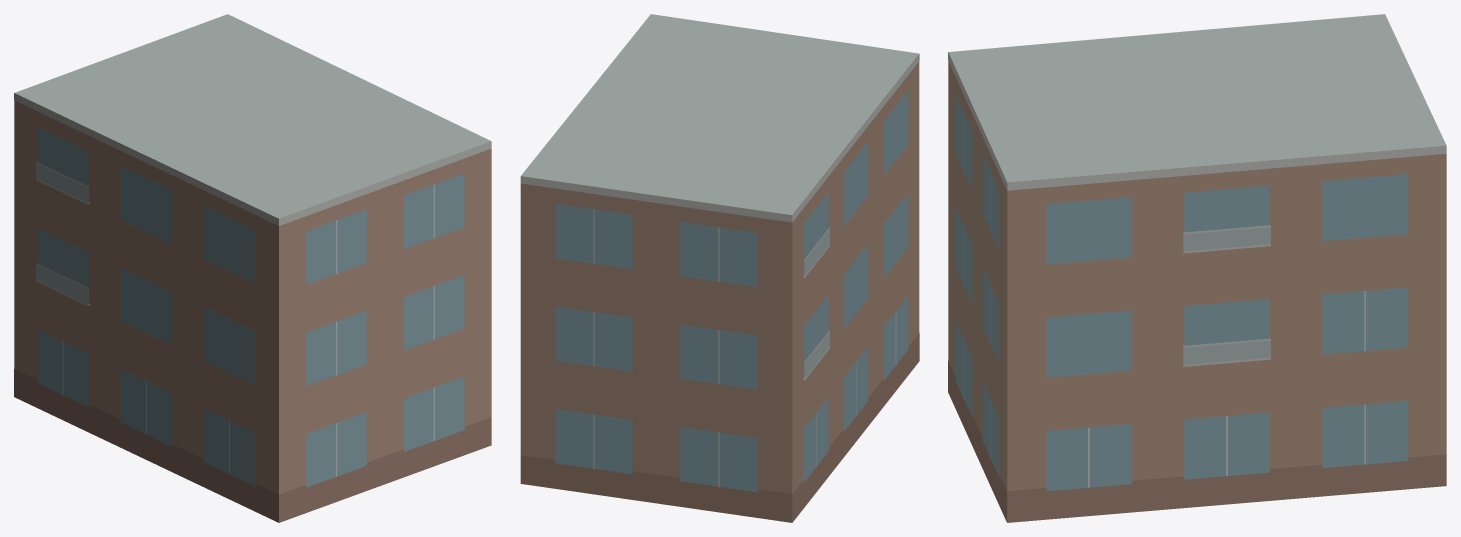
File: survey-upis-32920373.glb
3 renders of one model, left to right at view 1: azimuth 30°, elevation 25°; view 2: azimuth 150°, elevation 25°; view 3: azimuth 270°, elevation 25°, orthographic. The views are drawn at different scales.
Parts seen in each view (by area): view 1: survey-upis-32920373.tmp; view 2: survey-upis-32920373.tmp; view 3: survey-upis-32920373.tmp.
Part boxes in pixels (x1=…): survey-upis-32920373.tmp: x1=14, y1=14, x2=491, y2=522; survey-upis-32920373.tmp: x1=520, y1=14, x2=919, y2=522; survey-upis-32920373.tmp: x1=948, y1=14, x2=1446, y2=522.
Bounding box in the file's own units: 10.84 × 10.2 × 13.55.
